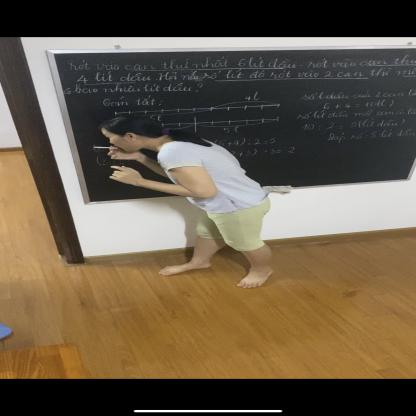cigarette: (92, 146, 118, 149)
person: (100, 113, 280, 291)
